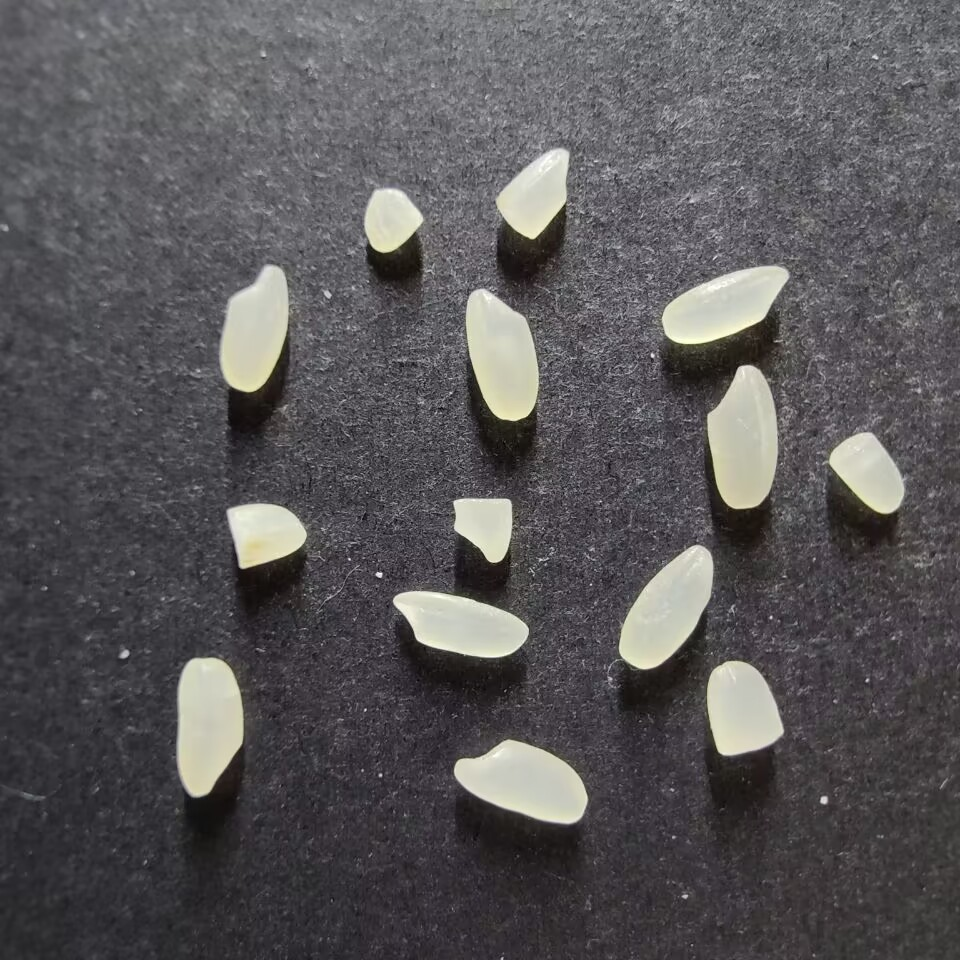broken: (706, 661, 784, 756), (494, 148, 570, 238), (828, 431, 905, 514), (226, 502, 307, 569), (451, 497, 513, 563), (363, 188, 423, 253)
rice: (618, 545, 714, 670), (453, 739, 587, 824), (705, 364, 778, 509), (661, 265, 789, 344), (464, 288, 539, 422), (175, 656, 245, 798), (392, 590, 530, 657), (220, 264, 289, 392)
